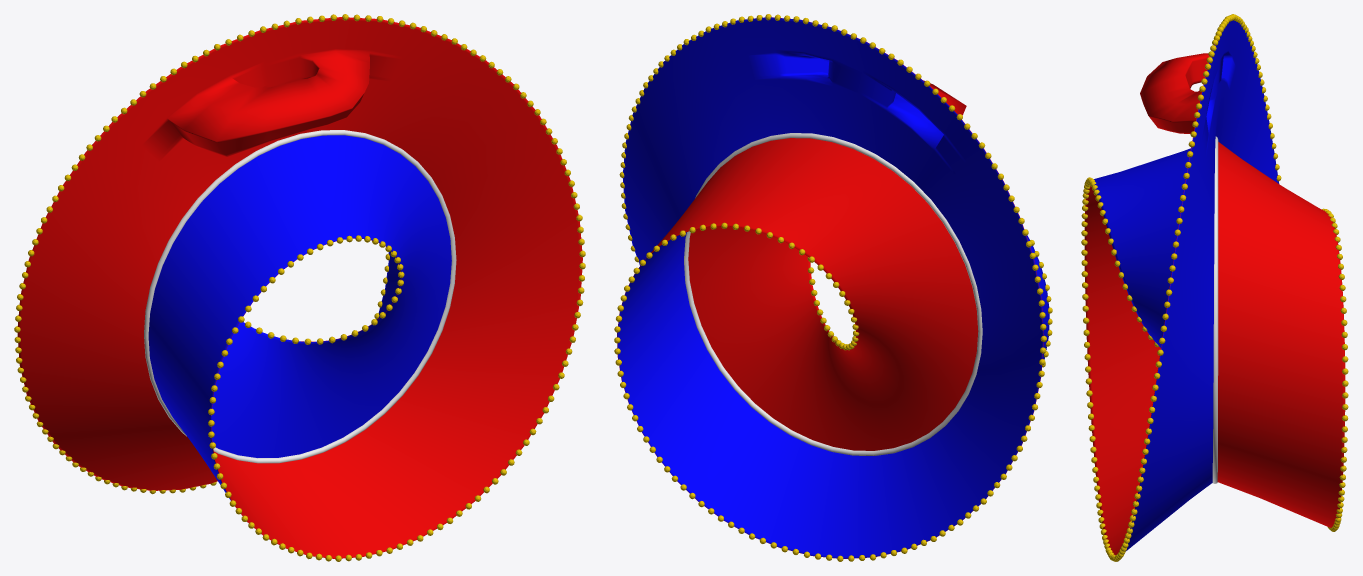
Rendered from l3_1_handle.glb.
3 views of the same model, side by side, from view 1: azimuth 30°, elevation 25°; view 2: azimuth 150°, elevation 25°; view 3: azimuth 270°, elevation 25° (orthographic). The views are drawn at different scales.
Parts seen in each view (by area): view 1: l3_1, Icosphere, sing; view 2: l3_1, Icosphere, sing; view 3: l3_1, Icosphere, sing.
Boxes of the visible parts, left/top/right/bottom form: l3_1: left=17, top=17, right=582, bottom=558; Icosphere: left=14, top=14, right=585, bottom=561; sing: left=144, top=130, right=456, bottom=463; l3_1: left=617, top=17, right=1049, bottom=558; Icosphere: left=614, top=14, right=1052, bottom=561; sing: left=684, top=133, right=982, bottom=455; l3_1: left=1084, top=20, right=1345, bottom=555; Icosphere: left=1081, top=14, right=1348, bottom=561; sing: left=1212, top=136, right=1218, bottom=483.
Bounding box in the file's own units: 171 × 163 × 81.47.
